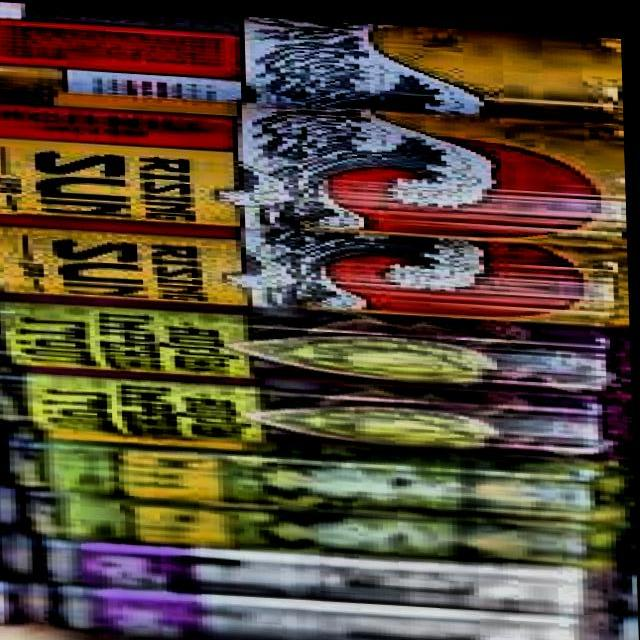Aluminum Can: (0, 87, 630, 245), (0, 0, 627, 122), (0, 208, 632, 322), (0, 286, 634, 396), (0, 425, 637, 528), (0, 361, 635, 458), (0, 526, 606, 612), (0, 491, 638, 566), (0, 578, 593, 640)
